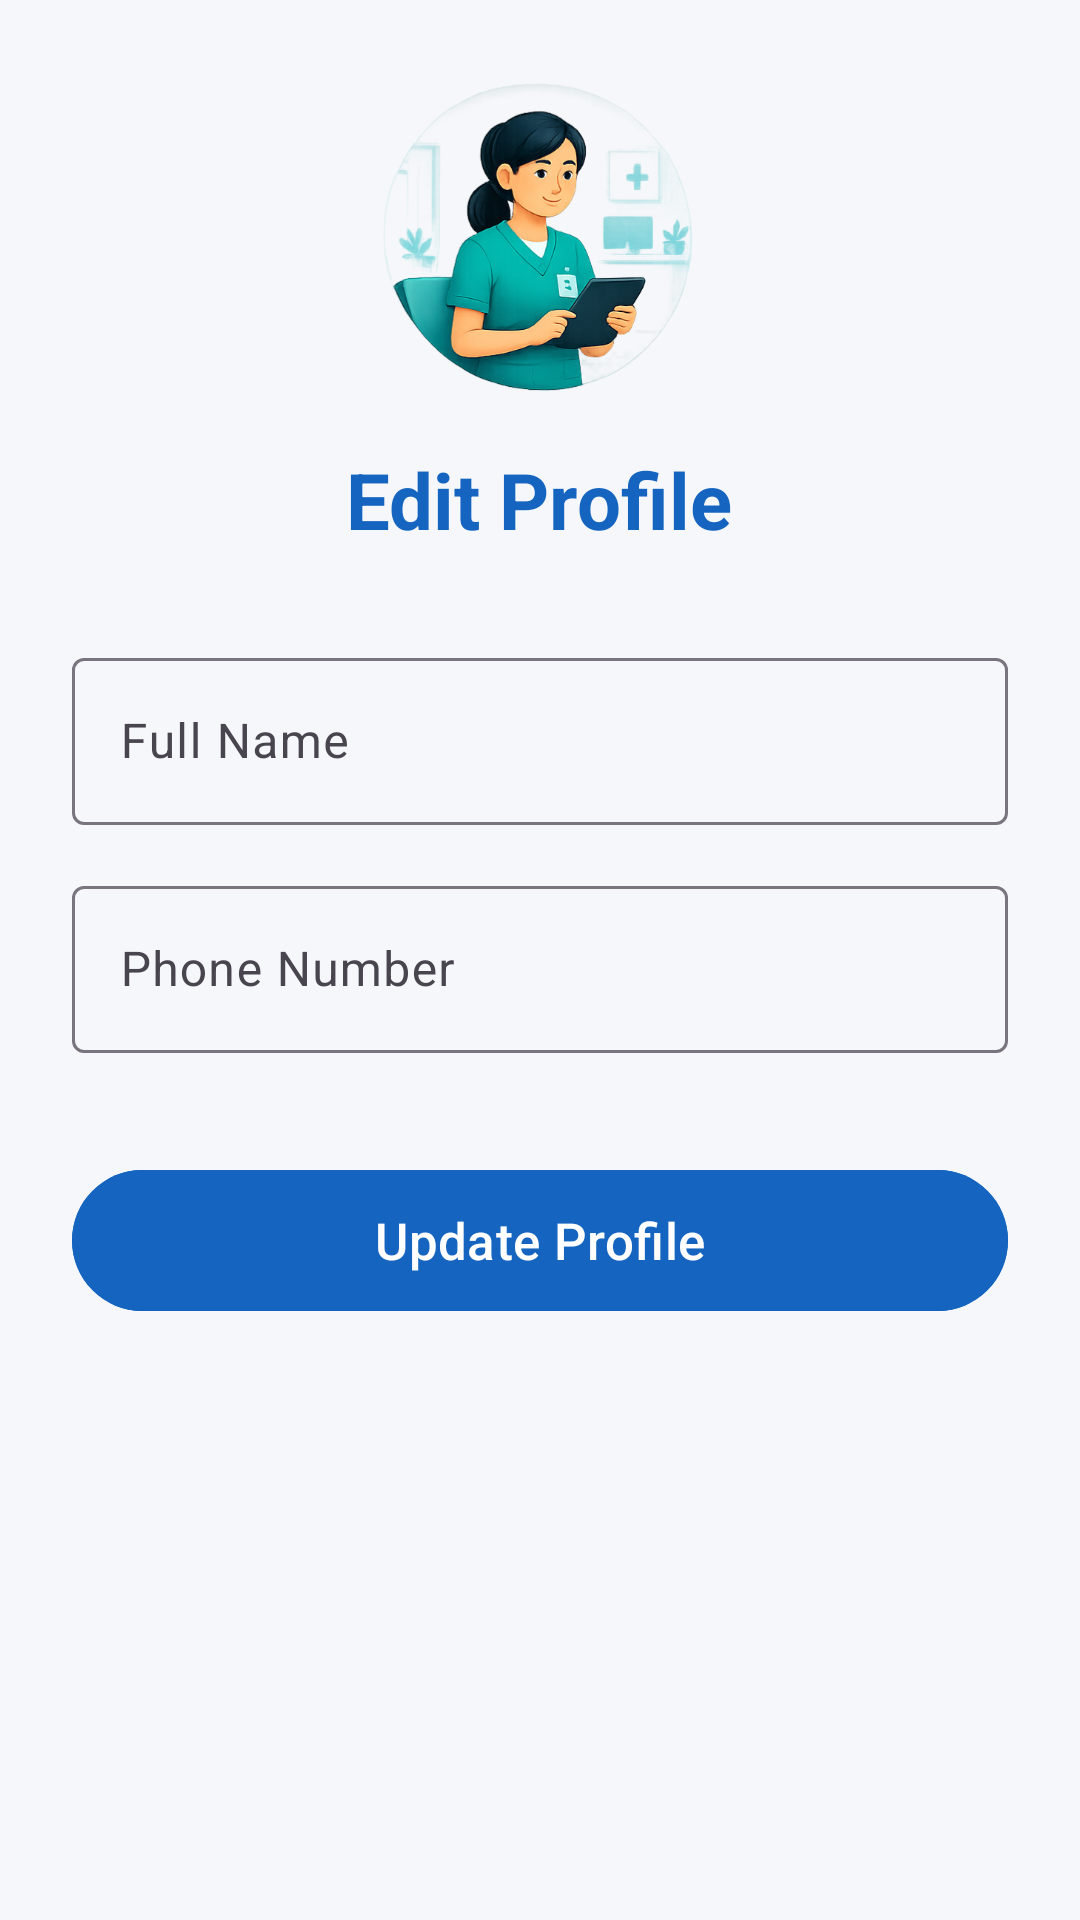

Icons on this 1080*1920 Android screen, each with the point to tap as point (x, y):
stafficon: point (542, 242)
